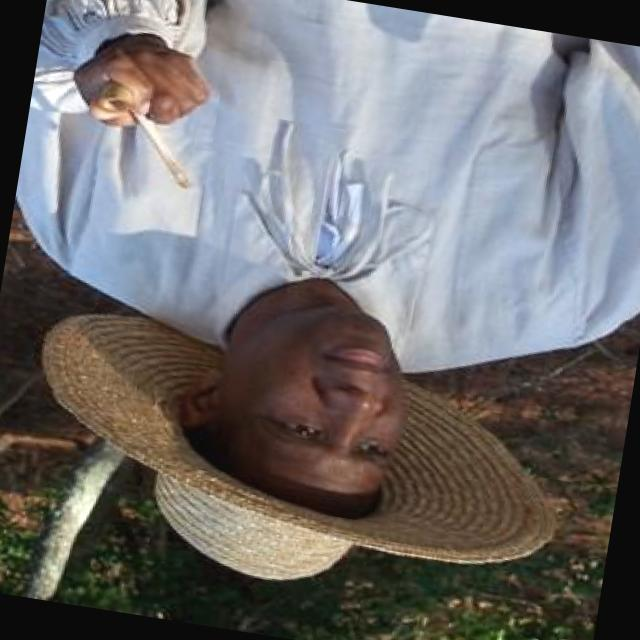smoke: (104, 101, 216, 208)
